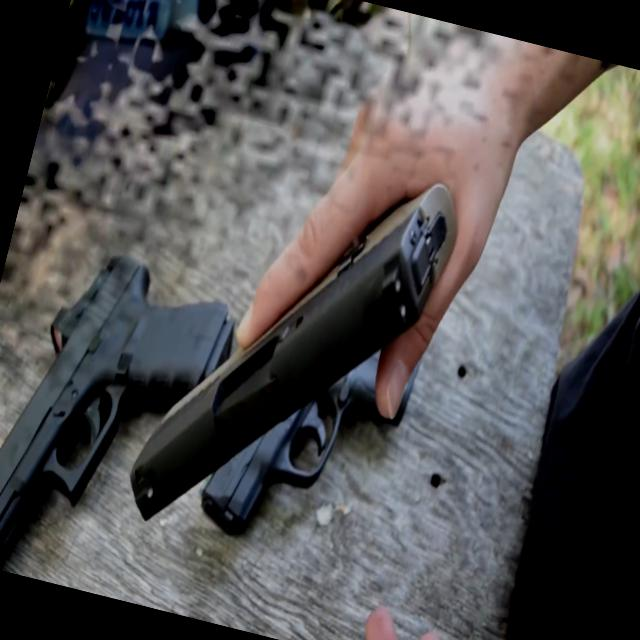handgun: (124, 130, 478, 559), (177, 236, 481, 592), (0, 219, 257, 607)
